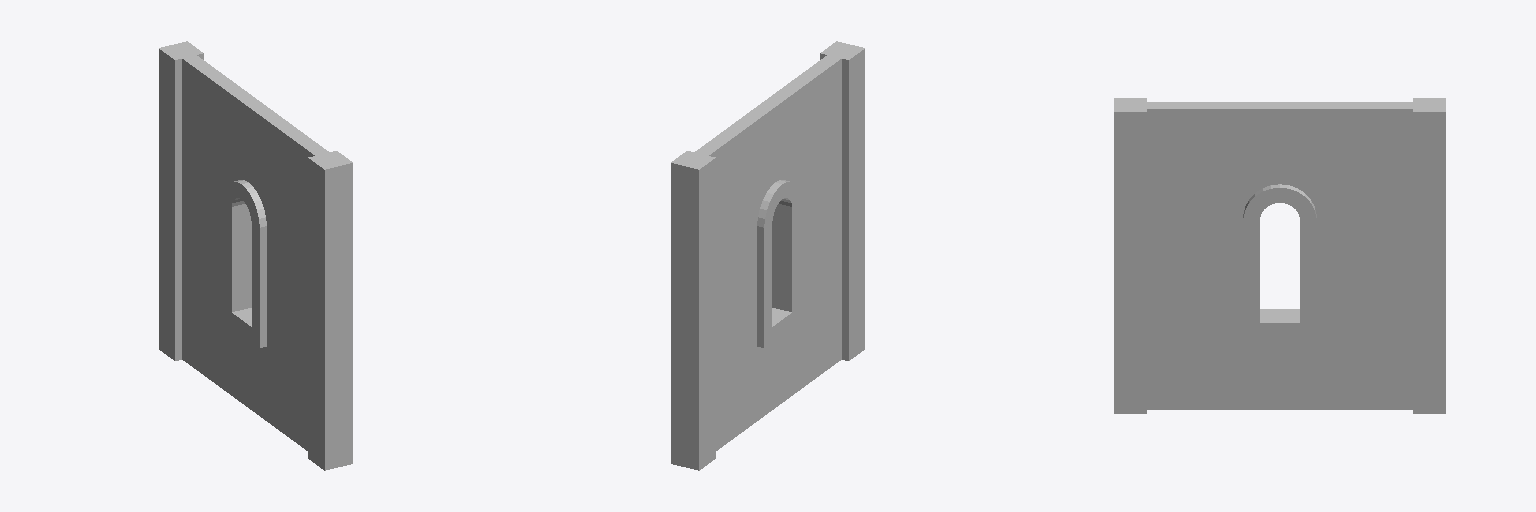
The model's file is wall-window-round.obj.
3 views of the same model, side by side, from view 1: azimuth 30°, elevation 25°; view 2: azimuth 150°, elevation 25°; view 3: azimuth 270°, elevation 25° (orthographic).
Visible parts, largest first — view 1: wall-window-round; view 2: wall-window-round; view 3: wall-window-round.
Part boxes in pixels (left/top/right/bottom): wall-window-round: left=159, top=41, right=352, bottom=470; wall-window-round: left=671, top=41, right=864, bottom=470; wall-window-round: left=1114, top=98, right=1445, bottom=413.
Bounding box in the file's own units: 0.1 × 1 × 1.